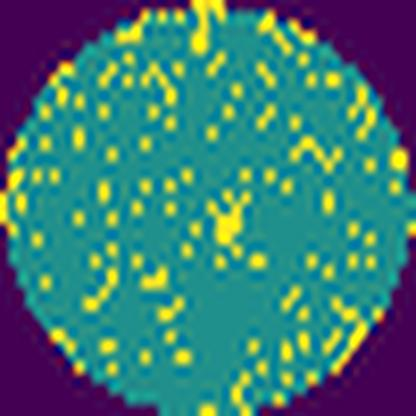Loc: (207, 189, 255, 246), (193, 0, 228, 52)
